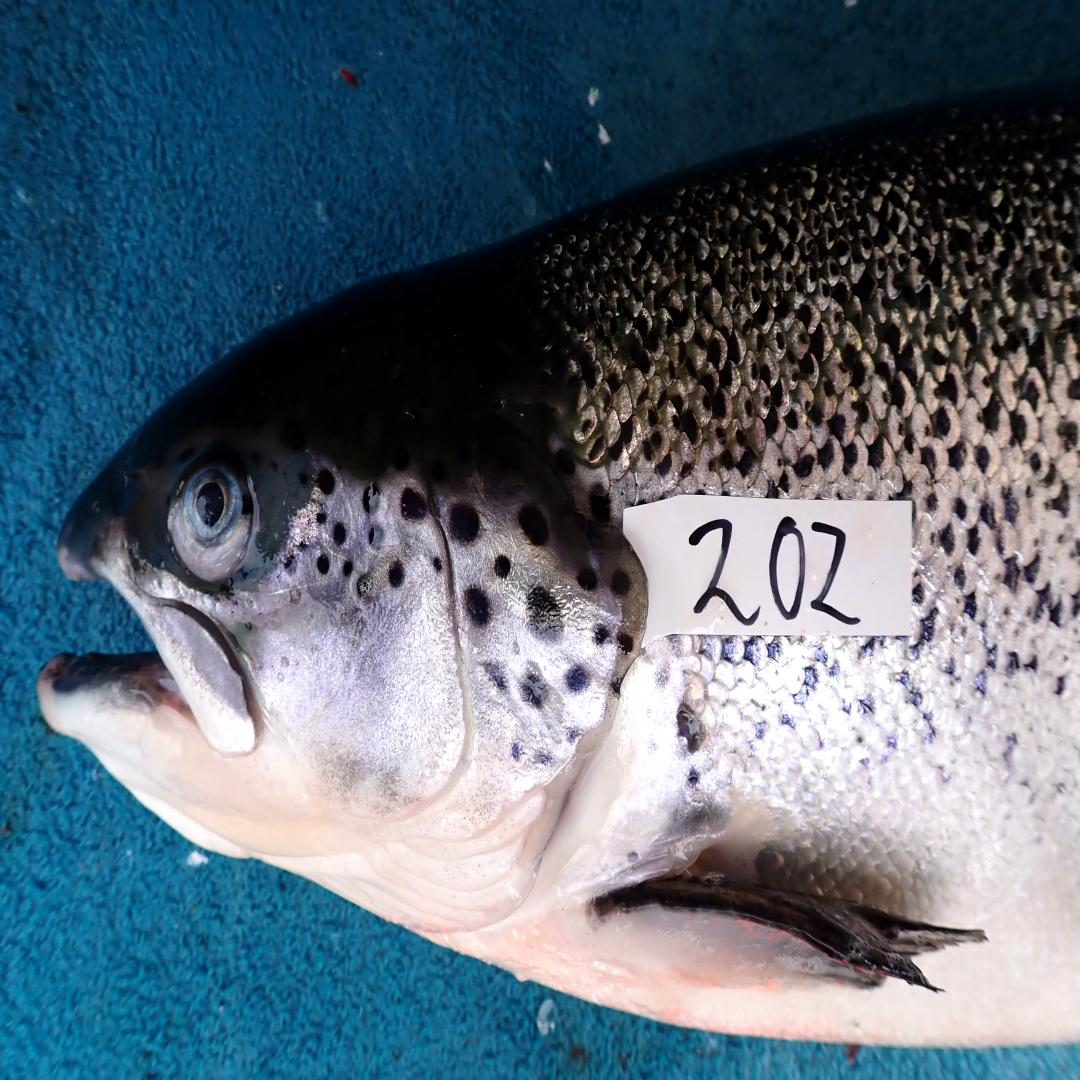roi: (252, 458, 640, 944)
